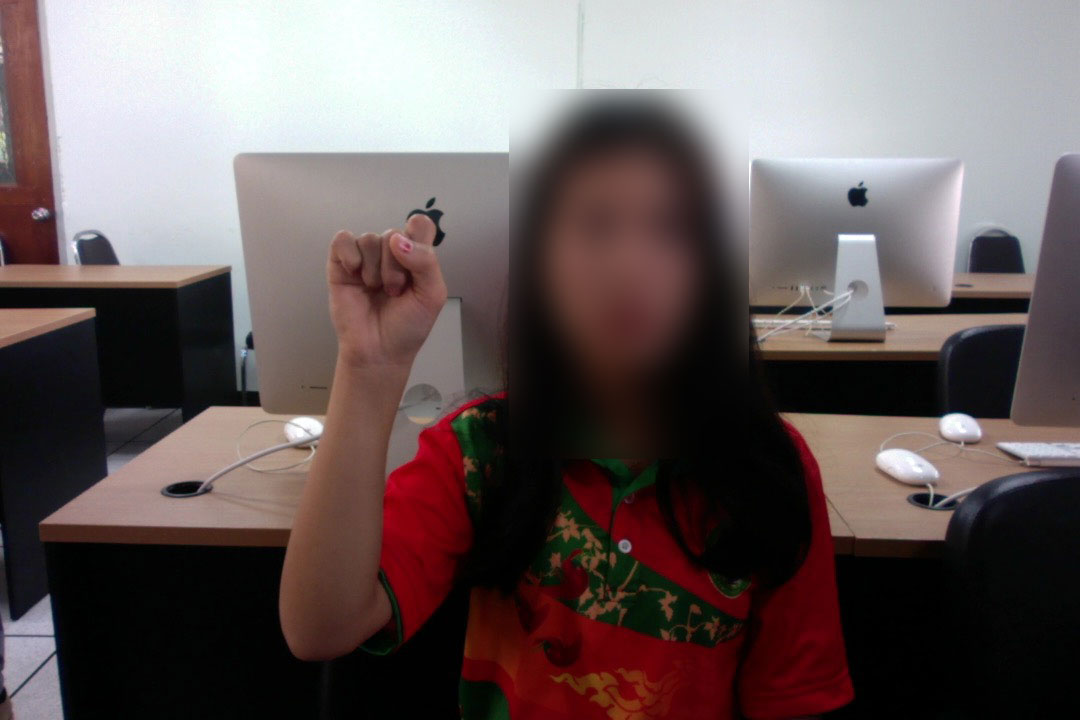sor: (319, 208, 451, 389)
